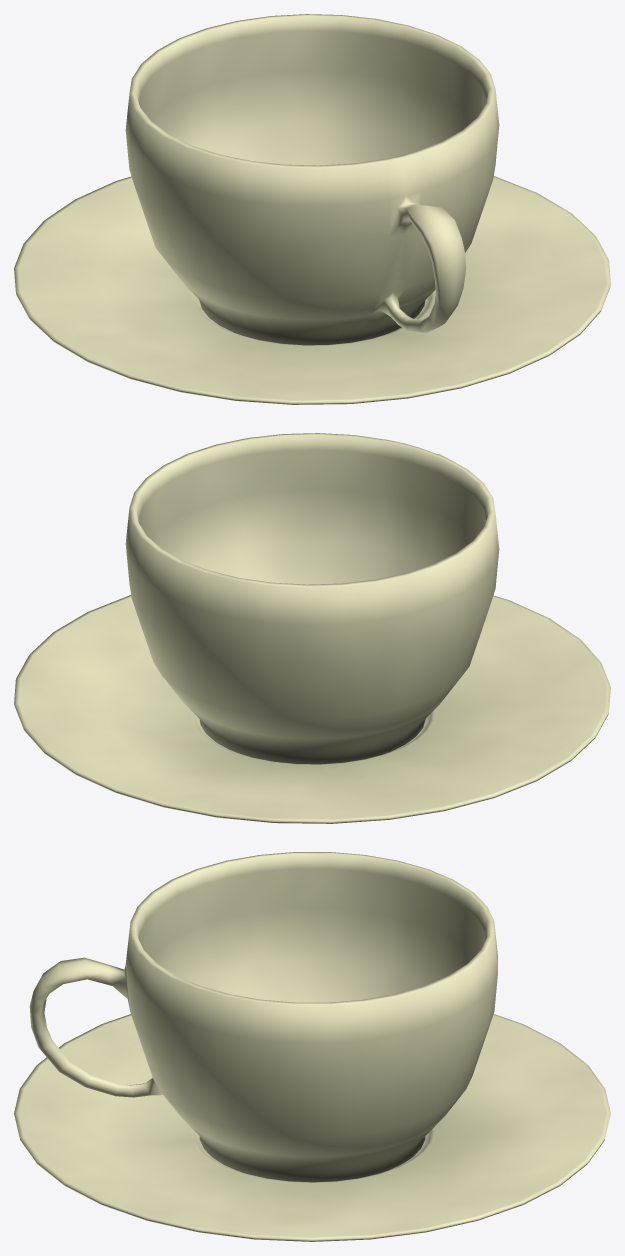
Rendered from cup.dae.
3 views of the same model, one above another, from view 1: azimuth 30°, elevation 25°; view 2: azimuth 150°, elevation 25°; view 3: azimuth 270°, elevation 25° (orthographic).
Parts seen in each view (by area): view 1: Circle; view 2: Circle; view 3: Circle.
Boxes of the visible parts, x1,y1,x2,y2 form: Circle: (14, 14, 610, 404); Circle: (14, 433, 610, 823); Circle: (14, 852, 610, 1241).
Size of the model in its own units: 0.1401 by 0.1401 by 0.0585.
1 material, 1 textured.
